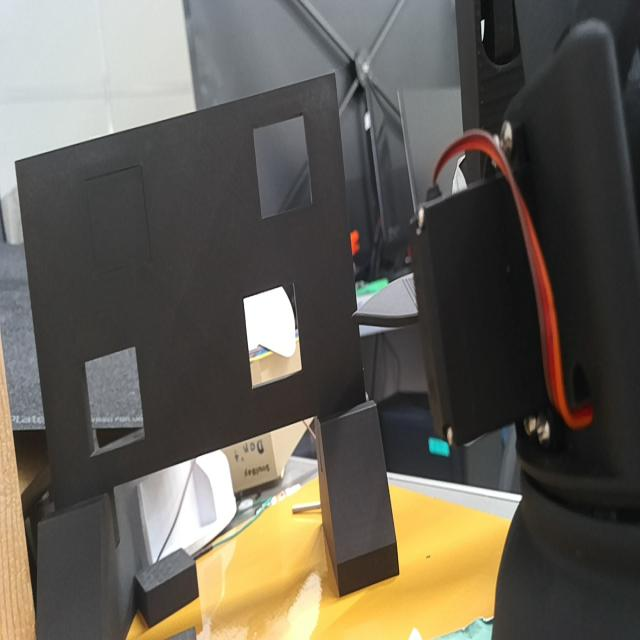Obstacle: (86, 347, 146, 456), (252, 113, 313, 218), (243, 280, 302, 386)
Wall: (14, 74, 365, 504)
